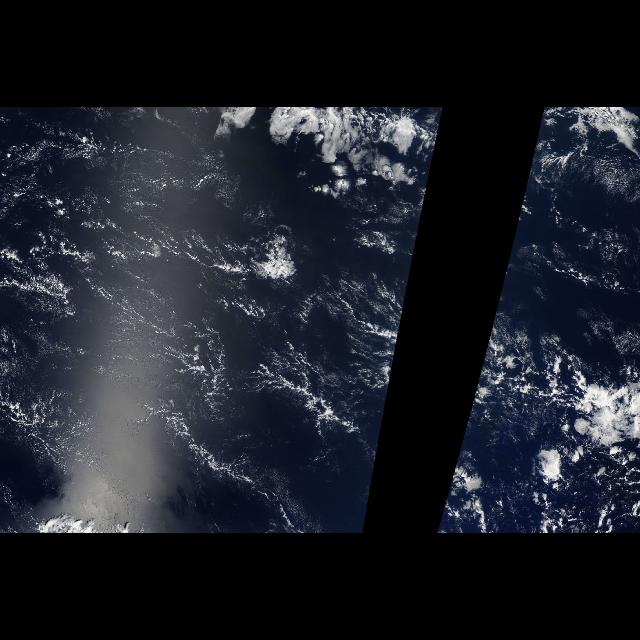Fish: (207, 110, 427, 192)
Gravel: (0, 117, 252, 283)
Sugar: (1, 142, 333, 510)
